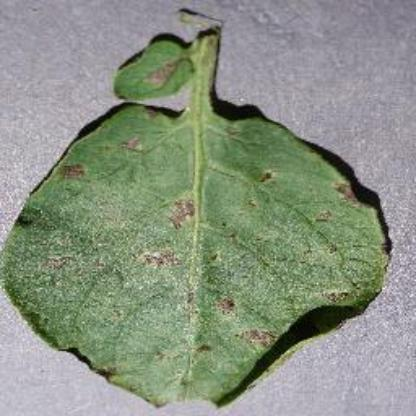Early-Blight: (3, 15, 398, 409)
